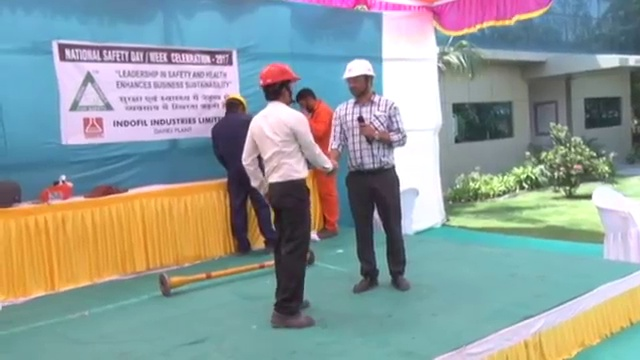helmet: (258, 61, 302, 88), (340, 57, 377, 80), (226, 92, 249, 112)
helmet_off: (294, 87, 321, 115)
helmet_on: (256, 61, 301, 110), (339, 56, 379, 101), (223, 91, 249, 118)
person: (241, 63, 335, 329), (330, 55, 412, 295), (210, 92, 276, 257), (294, 84, 345, 242)
